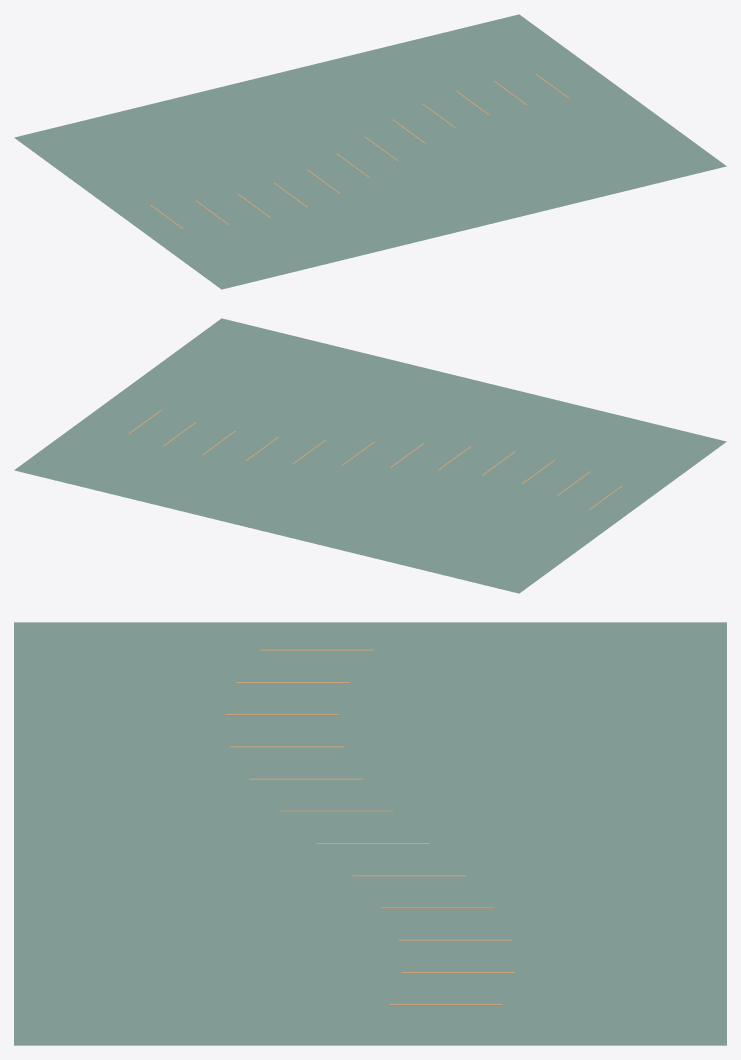
File: 279_L119_L30_LayerReference.glb
The picture shows the model from 3 angles, top to bottom: view 1: azimuth 30°, elevation 25°; view 2: azimuth 150°, elevation 25°; view 3: azimuth 270°, elevation 25°; orthographic projection. The views are drawn at different scales.
Parts seen in each view (by area): view 1: 0000__PSMAT__dielectric; view 2: 0000__PSMAT__dielectric; view 3: 0000__PSMAT__dielectric.
Part boxes in pixels (x1,y1,x2,y2): 0000__PSMAT__dielectric: (14, 14, 726, 289); 0000__PSMAT__dielectric: (14, 318, 726, 593); 0000__PSMAT__dielectric: (14, 622, 726, 1045).
Size of the model in its own units: 0.486 by 4e-05 by 0.346.
